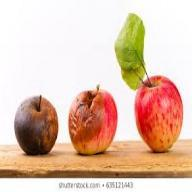apple: (134, 72, 182, 154), (10, 92, 60, 161), (67, 88, 117, 156)
